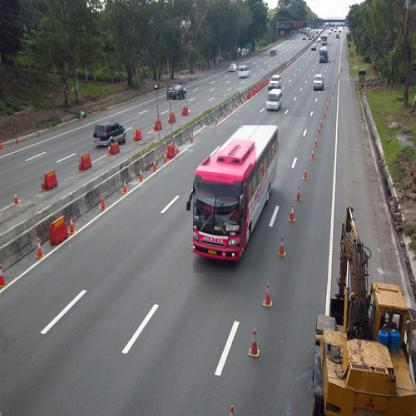bus: (193, 126, 286, 275), (320, 48, 331, 65)
car: (97, 118, 127, 148), (168, 82, 188, 102), (267, 89, 286, 110), (314, 75, 327, 93), (239, 65, 251, 79), (232, 62, 238, 73), (311, 44, 320, 51), (271, 50, 278, 58)
